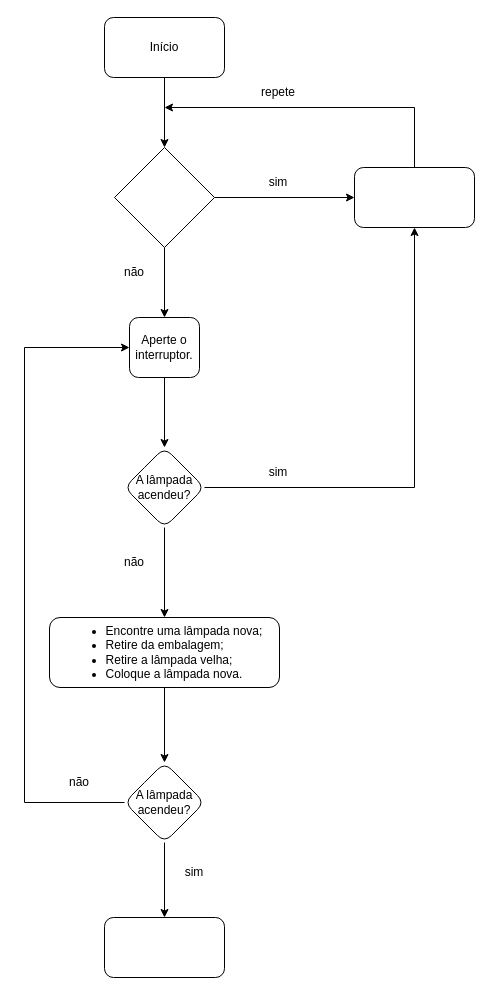
The diagram is 492 pixels wide and 995 high, and some of its shapes have lost their labels. Each missing label, with the centre of its shape:
"A lâmpada está acesa?" belongs at (164,197).
"FIM!" belongs at (164,947).
"Vá para outro cômodo." belongs at (414,197).
